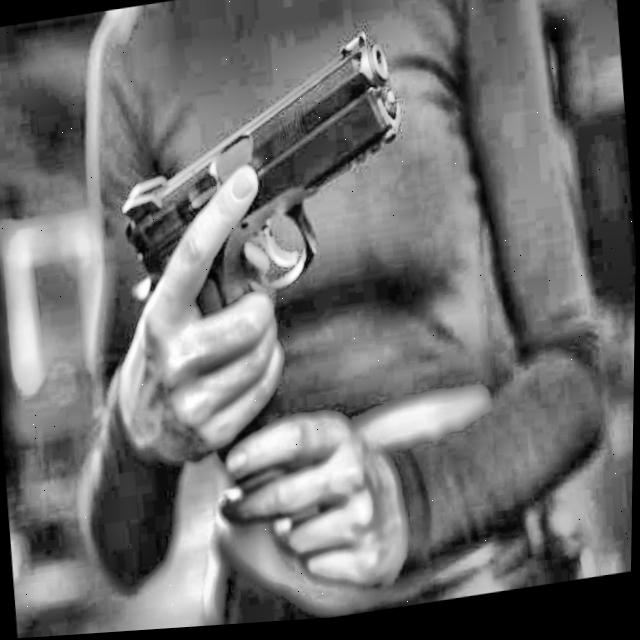pistol: (112, 22, 420, 469)
